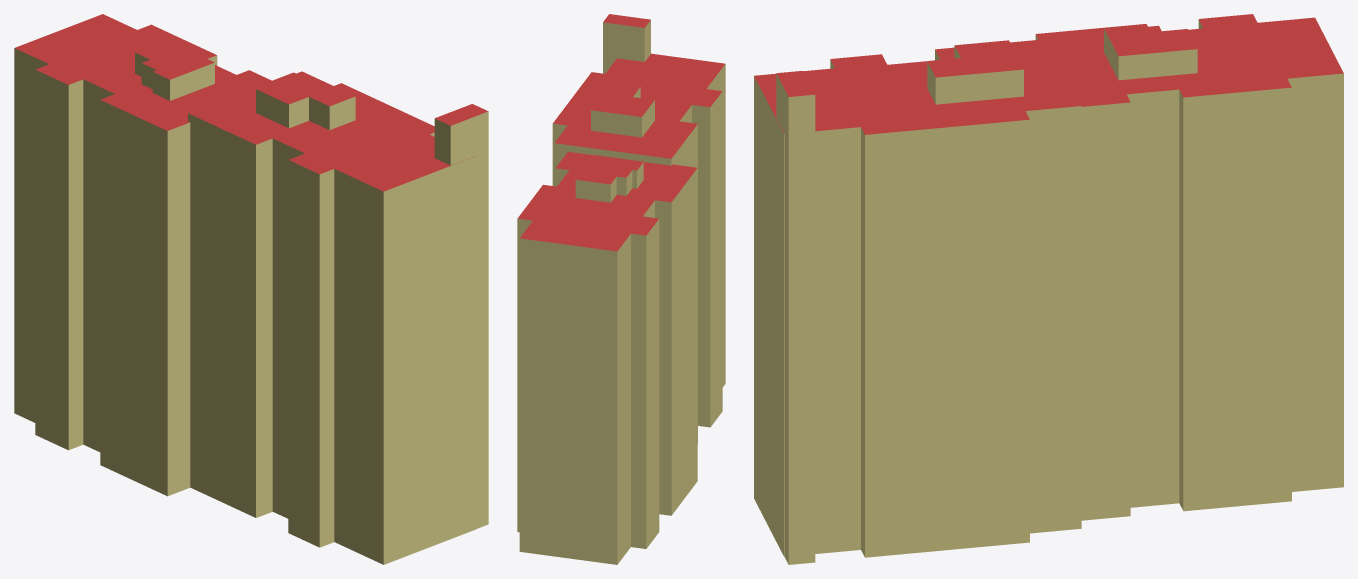
3 views of the same model, side by side, from view 1: azimuth 30°, elevation 25°; view 2: azimuth 150°, elevation 25°; view 3: azimuth 270°, elevation 25° (orthographic). The views are drawn at different scales.
Parts seen in each view (by area): view 1: group_14, group_6, group_11, group_3, group_9, group_13, group_12, group_5, group_4; view 2: group_6, group_14, group_11, group_3, group_9, group_13, group_12, group_5, group_4, group_8; view 3: group_14, group_6, group_9, group_3, group_11, group_13, group_12, group_5, group_4.
Boxes of the visible parts, <box> form: group_14: <box>188,113,476,564</box>; group_6: <box>14,48,217,496</box>; group_11: <box>188,72,475,191</box>; group_3: <box>15,14,271,130</box>; group_9: <box>434,111,488,528</box>; group_13: <box>256,89,355,130</box>; group_12: <box>256,71,355,106</box>; group_5: <box>135,52,214,100</box>; group_4: <box>135,40,214,79</box>; group_6: <box>517,168,697,564</box>; group_14: <box>552,64,725,443</box>; group_11: <box>553,53,724,158</box>; group_3: <box>517,152,697,251</box>; group_9: <box>603,20,650,73</box>; group_13: <box>591,87,654,137</box>; group_12: <box>591,82,654,116</box>; group_5: <box>575,162,643,202</box>; group_4: <box>576,155,643,184</box>; group_8: <box>603,14,650,27</box>; group_14: <box>754,50,1081,557</box>; group_6: <box>1035,20,1343,520</box>; group_9: <box>776,73,815,564</box>; group_3: <box>1036,14,1343,106</box>; group_11: <box>754,39,1081,134</box>; group_13: <box>927,45,1023,104</box>; group_12: <box>927,40,1023,77</box>; group_5: <box>1104,29,1197,80</box>; group_4: <box>1104,25,1197,56</box>.
Size of the model in its own units: 34.98 by 63.56 by 55.62.
